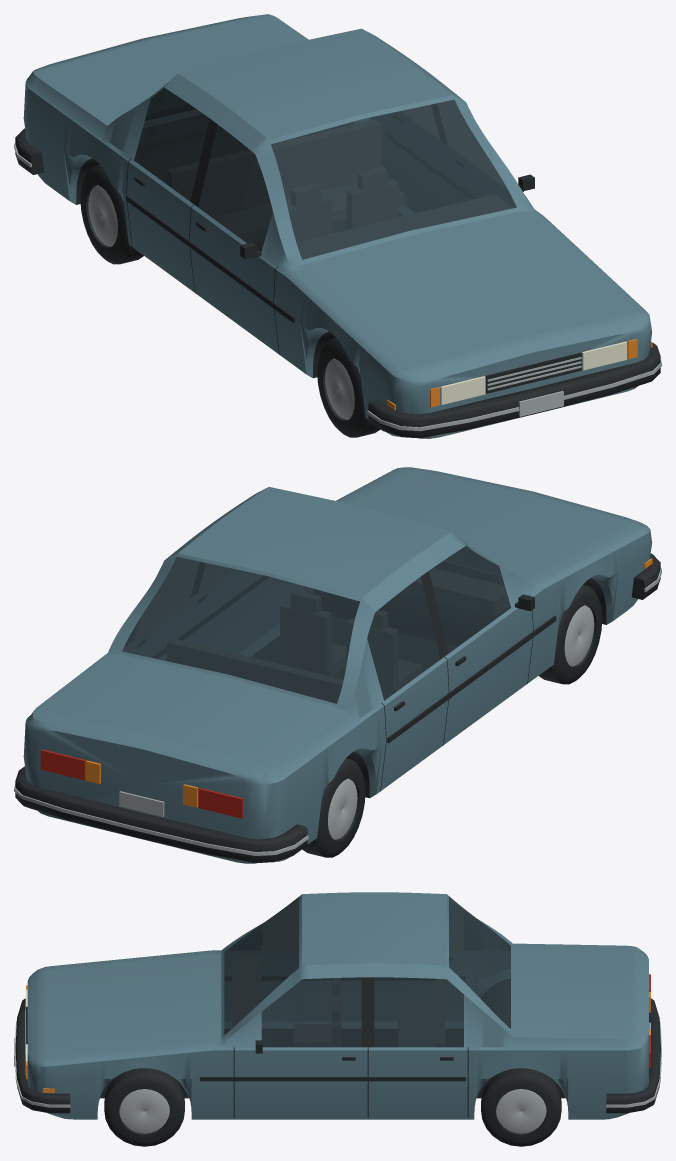
Rendered from customer-car-sedan.glb.
3 renders of one model, top to bottom at view 1: azimuth 30°, elevation 25°; view 2: azimuth 150°, elevation 25°; view 3: azimuth 270°, elevation 25°, orthographic. The views are drawn at different scales.
Parts seen in each view (by area): view 1: Sedan_BodyPaint, Sedan_WindowGlass, Sedan_RubberTrim, Sedan_InteriorCloth, Sedan_WheelMetal, Sedan_Headlamp; view 2: Sedan_BodyPaint, Sedan_WindowGlass, Sedan_RubberTrim, Sedan_InteriorCloth, Sedan_WheelMetal, Sedan_TailLamp, Sedan_AmberLens; view 3: Sedan_BodyPaint, Sedan_WindowGlass, Sedan_RubberTrim, Sedan_InteriorCloth, Sedan_WheelMetal.
Boxes of the visible parts, x1,y1,x2,y2 form: Sedan_BodyPaint: (23,14,652,438); Sedan_WindowGlass: (134,87,516,259); Sedan_RubberTrim: (15,104,660,438); Sedan_InteriorCloth: (167,120,512,259); Sedan_WheelMetal: (14,143,661,431); Sedan_Headlamp: (440,341,627,404); Sedan_BodyPaint: (23,467,652,863); Sedan_WindowGlass: (122,545,510,703); Sedan_RubberTrim: (15,553,660,863); Sedan_InteriorCloth: (167,568,509,703); Sedan_WheelMetal: (14,568,661,855); Sedan_TailLamp: (40,749,243,818); Sedan_AmberLens: (85,558,652,807); Sedan_BodyPaint: (27,892,648,1119); Sedan_WindowGlass: (224,896,510,1047); Sedan_RubberTrim: (15,958,660,1146); Sedan_InteriorCloth: (232,955,444,1046); Sedan_WheelMetal: (14,1010,661,1133).
Bounding box in the file's own units: 6.26 × 4.57 × 15.22.
